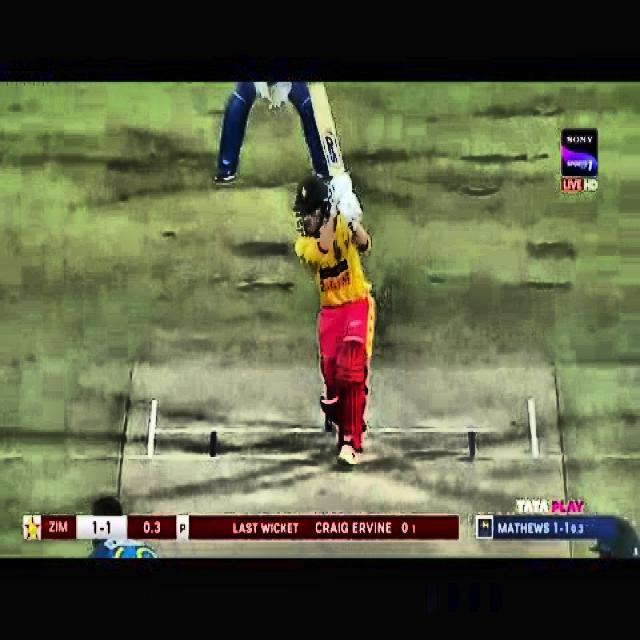Left-stump: (326, 415, 333, 431)
